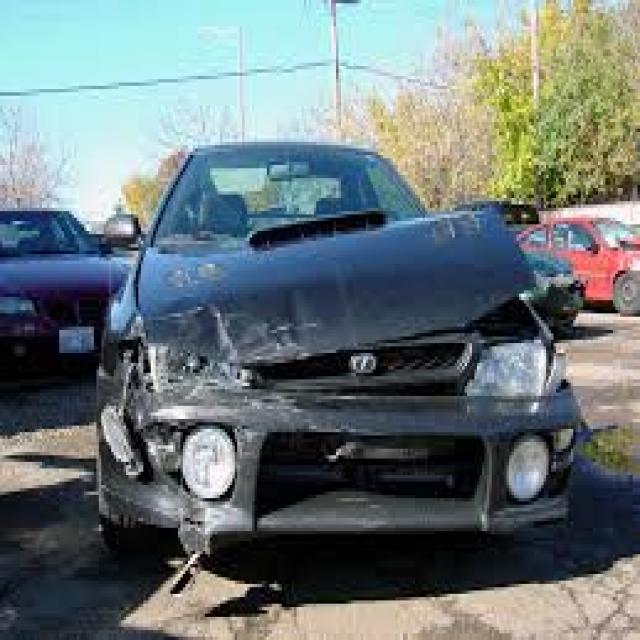moderate: (93, 183, 579, 514)
